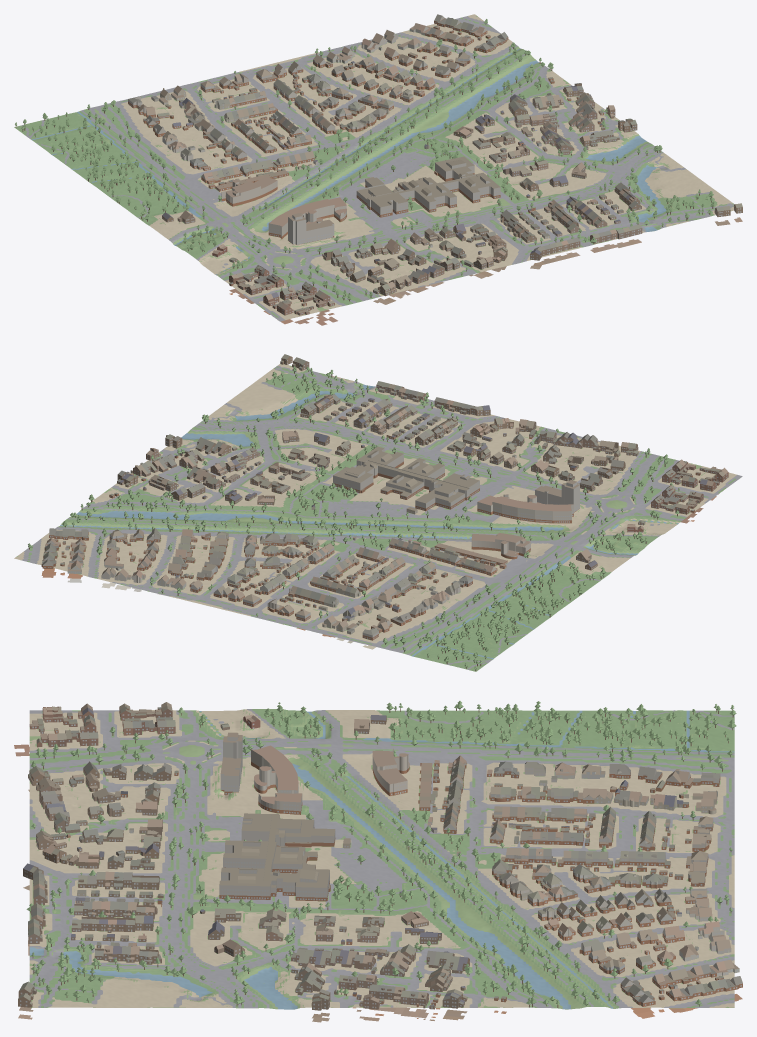
File: bosven-veghel_x332_y808.glb
The picture shows the model from 3 angles, top to bottom: view 1: azimuth 30°, elevation 25°; view 2: azimuth 150°, elevation 25°; view 3: azimuth 270°, elevation 25°; orthographic projection. The views are drawn at different scales.
Parts seen in each view (by area): view 1: class:sand, class:wall, class:road, class:roof, class:green, class:tree, class:grass, class:trim, class:water, class:trunk; view 2: class:sand, class:road, class:wall, class:green, class:roof, class:tree, class:grass, class:trim, class:water, class:trunk; view 3: class:sand, class:road, class:roof, class:green, class:wall, class:tree, class:grass, class:water, class:trim, class:trunk.
Part boxes in pixels (bbox=[...]): class:sand: bbox=[121, 14, 733, 319]; class:wall: bbox=[128, 16, 742, 325]; class:road: bbox=[21, 16, 733, 321]; class:roof: bbox=[128, 14, 742, 313]; class:green: bbox=[14, 17, 733, 317]; class:tree: bbox=[15, 19, 714, 299]; class:grass: bbox=[23, 15, 731, 315]; class:trim: bbox=[128, 17, 741, 314]; class:water: bbox=[31, 48, 666, 275]; class:trunk: bbox=[15, 24, 713, 301]; class:sand: bbox=[14, 364, 736, 643]; class:road: bbox=[22, 365, 742, 669]; class:wall: bbox=[41, 356, 728, 649]; class:green: bbox=[27, 366, 735, 671]; class:roof: bbox=[42, 354, 727, 635]; class:tree: bbox=[28, 366, 679, 669]; class:grass: bbox=[16, 364, 728, 667]; class:trim: bbox=[44, 358, 727, 639]; class:water: bbox=[60, 384, 678, 659]; class:trunk: bbox=[29, 370, 679, 670]; class:sand: bbox=[29, 709, 734, 1007]; class:road: bbox=[29, 709, 734, 1008]; class:roof: bbox=[18, 702, 742, 1006]; class:green: bbox=[29, 709, 734, 1008]; class:wall: bbox=[14, 705, 742, 1022]; class:tree: bbox=[26, 701, 736, 1005]; class:grass: bbox=[29, 709, 734, 1009]; class:water: bbox=[29, 710, 734, 1009]; class:trim: bbox=[20, 710, 741, 1009]; class:trunk: bbox=[30, 708, 733, 1007].
Bounding box in the file's own units: 507 × 37.29 × 517.
